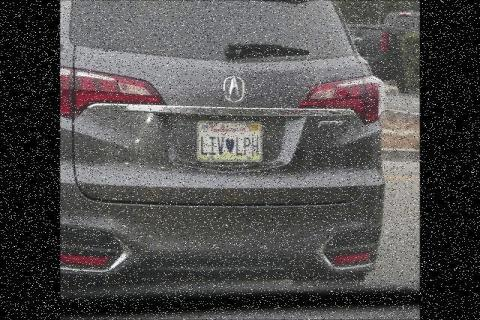LicensePlate: (193, 114, 269, 170)
